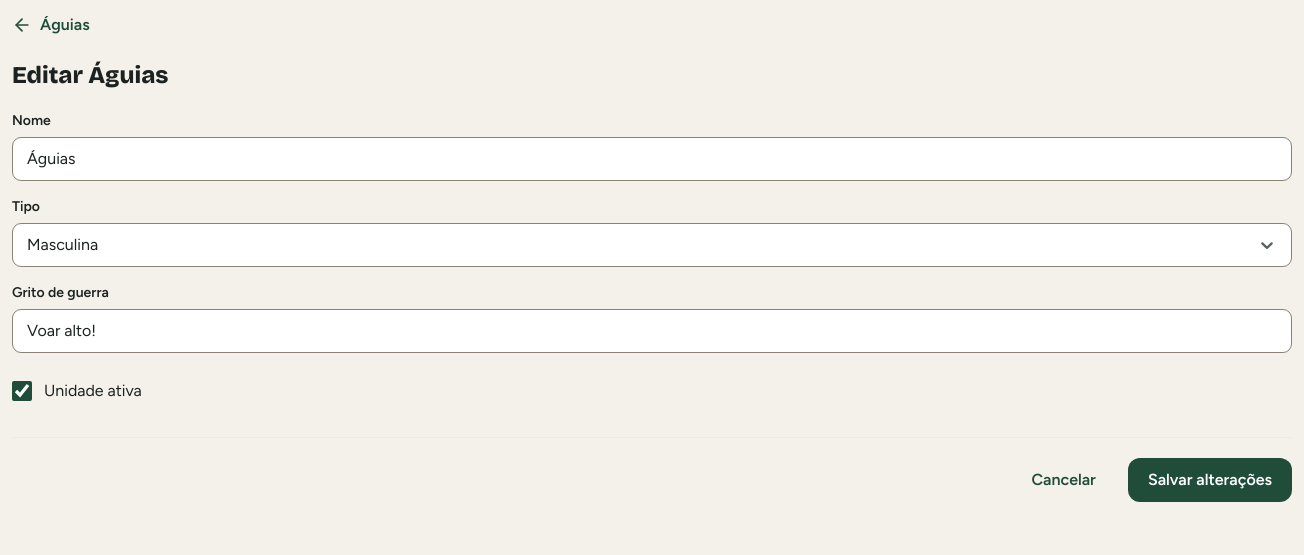
Test: A3 · nova e editar (telas dedicadas) › desativar unidade com membros mostra a mensagem 422 e fica na edição
This screenshot has width=1304, height=555.
Click the checkbox labelled "Unidade ativa" at (22, 391), box [12,381,32,401]
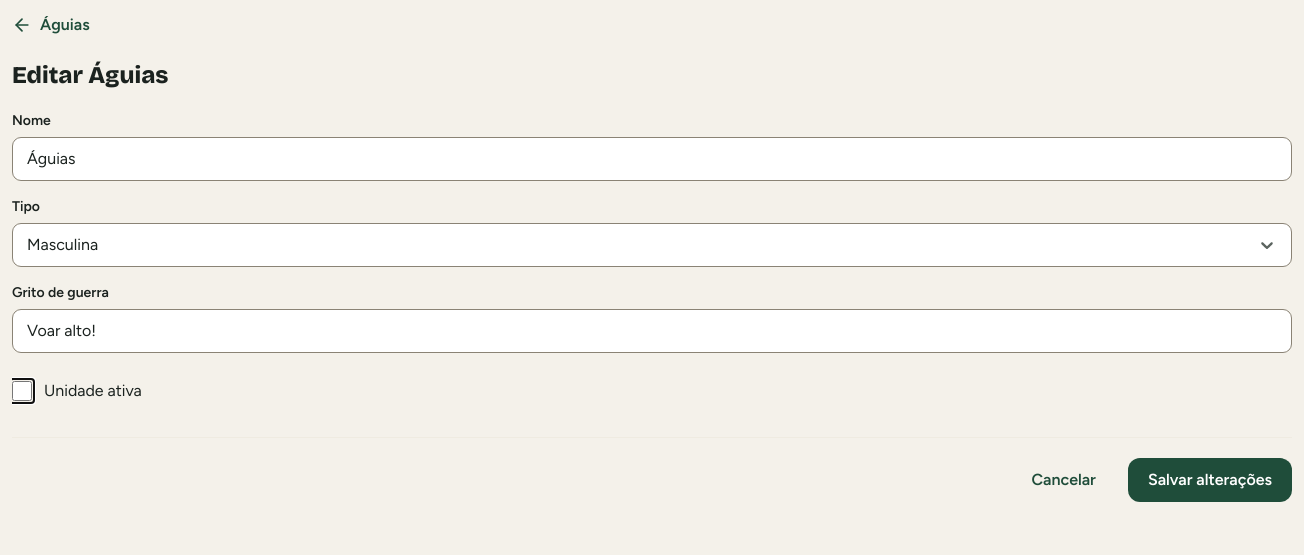
Click the button "Salvar alterações" at (1210, 480), box [1128,458,1292,502]
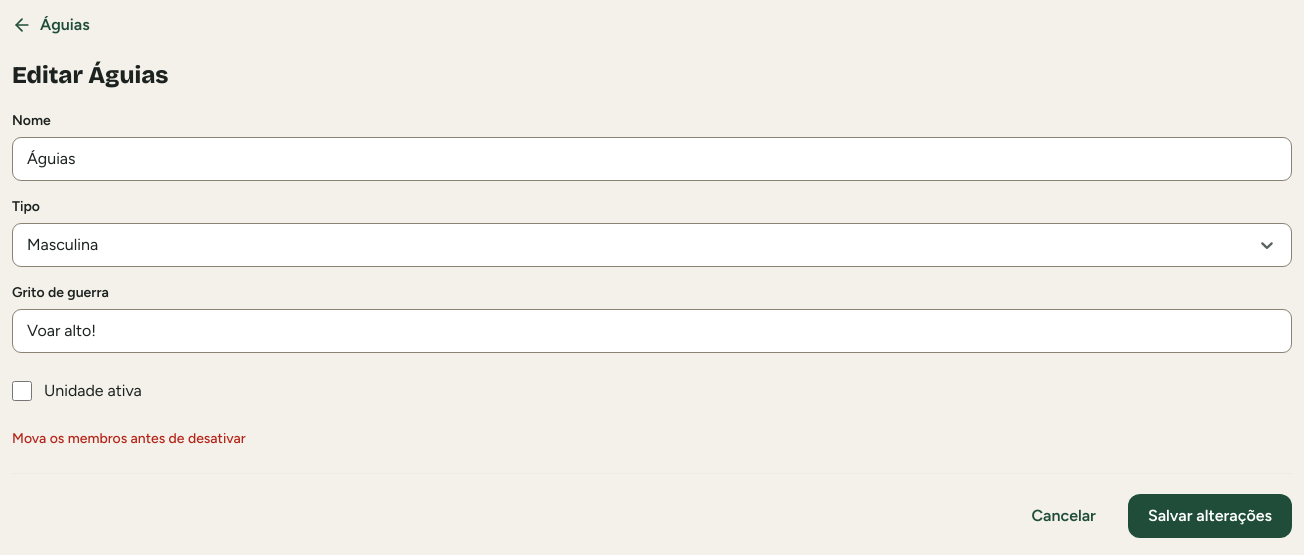
Now the message reads "Mova os membros antes de desativar", box [12,430,246,447]
